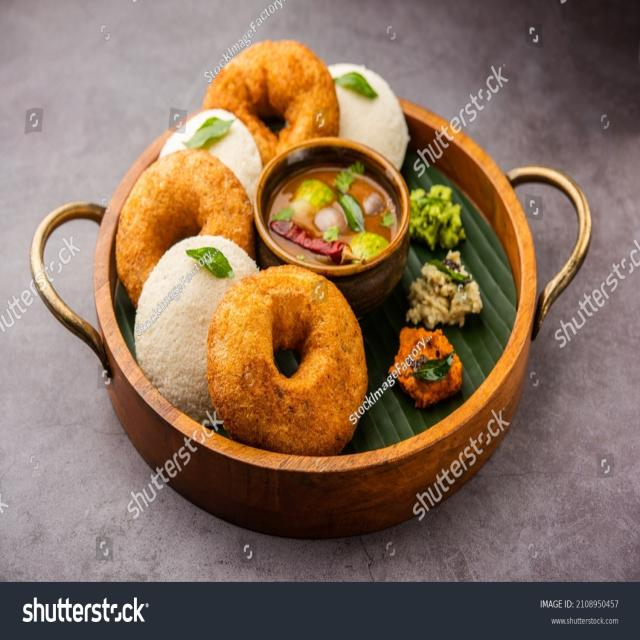IDLI: (133, 231, 257, 409), (323, 61, 410, 166), (164, 109, 263, 188)
MEDU VADA: (206, 262, 367, 456), (112, 145, 254, 295), (207, 42, 336, 173)
